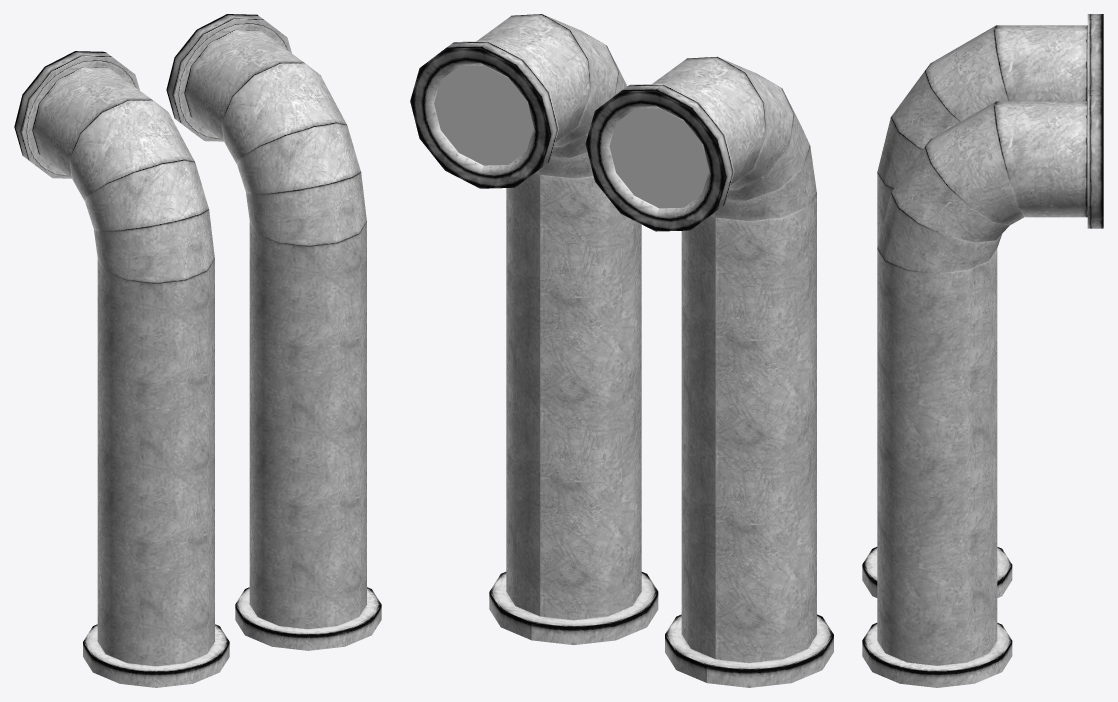
File: Pipes.fbx
The picture shows the model from 3 angles, left to right: view 1: azimuth 30°, elevation 25°; view 2: azimuth 150°, elevation 25°; view 3: azimuth 270°, elevation 25°; orthographic projection. The views are drawn at different scales.
Parts seen in each view (by area): view 1: Pipes_Low; view 2: Pipes_Low; view 3: Pipes_Low.
Boxes of the visible parts, left/top/right/bottom form: Pipes_Low: left=14, top=14, right=381, bottom=687; Pipes_Low: left=410, top=14, right=833, bottom=687; Pipes_Low: left=862, top=14, right=1103, bottom=687.
Bounding box in the file's own units: 107 × 200 × 78.23.
Materials: 1 (1 with a texture image).
